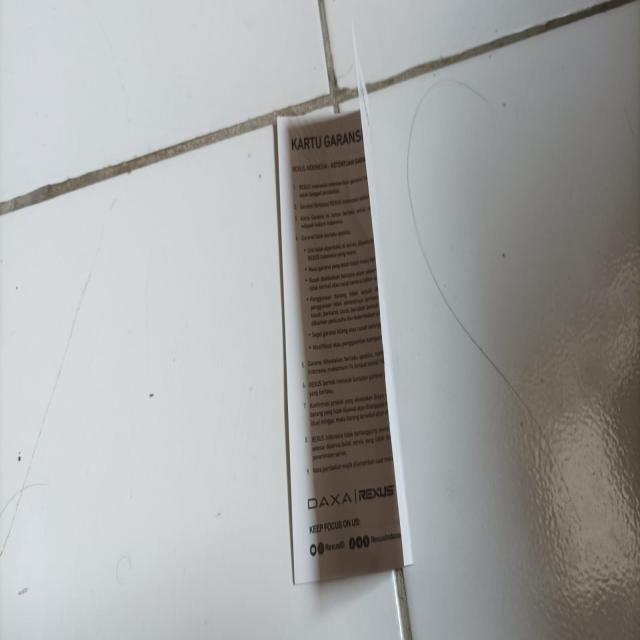Organik: (278, 33, 411, 584)
